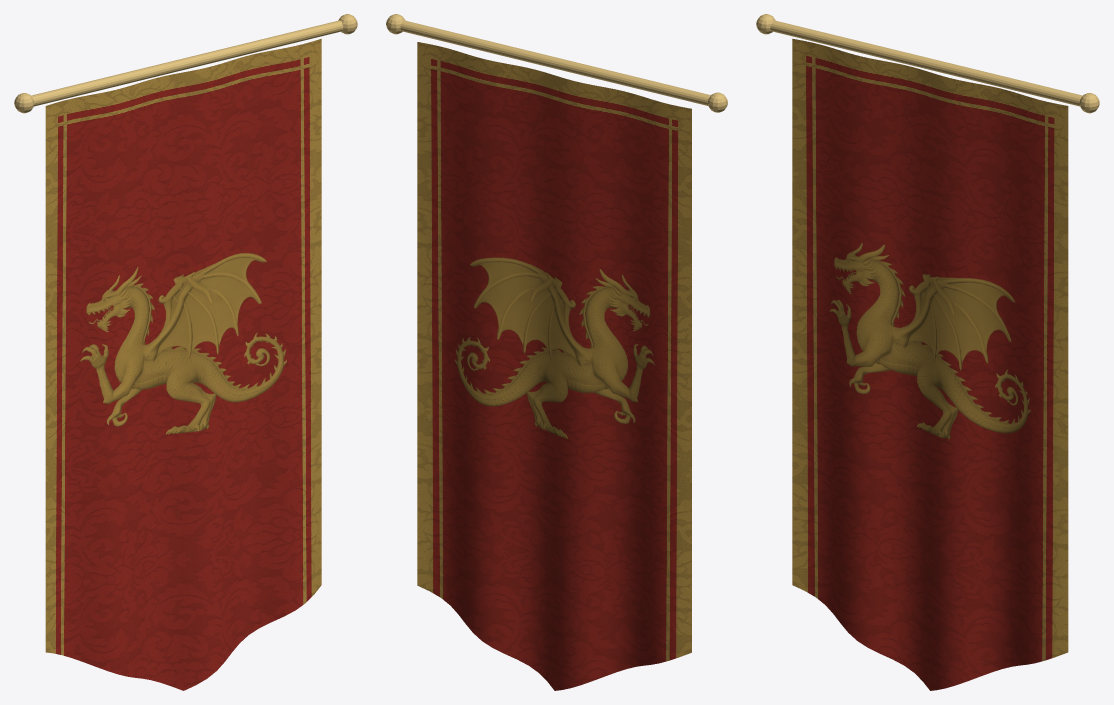
File: banner_h1.glb
The picture shows the model from 3 angles, left to right: view 1: azimuth 30°, elevation 25°; view 2: azimuth 150°, elevation 25°; view 3: azimuth 330°, elevation 25°; orthographic projection.
Parts seen in each view (by area): view 1: banner_h1; view 2: banner_h1; view 3: banner_h1.
Boxes of the visible parts, left/top/right/bottom form: banner_h1: left=14, top=14, right=357, bottom=690; banner_h1: left=386, top=14, right=727, bottom=690; banner_h1: left=756, top=14, right=1099, bottom=690.
Size of the model in its own units: 1.73 by 3.1 by 0.1.
Materials: 2 (1 with a texture image).
